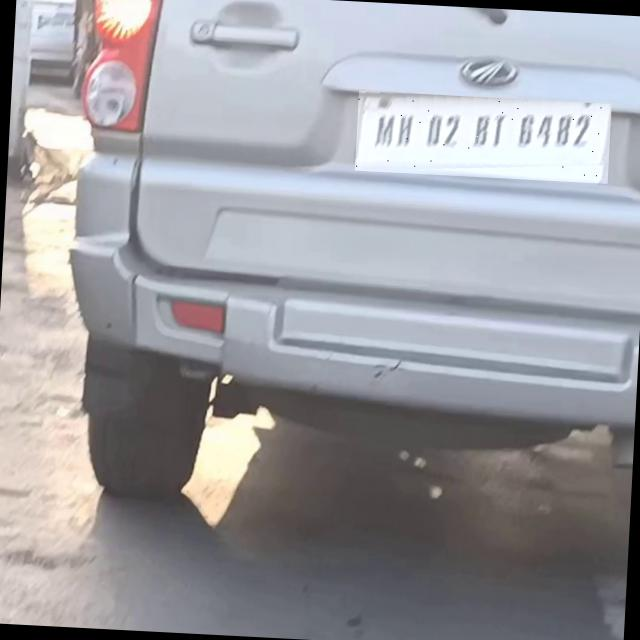Plate: (356, 92, 613, 185)
